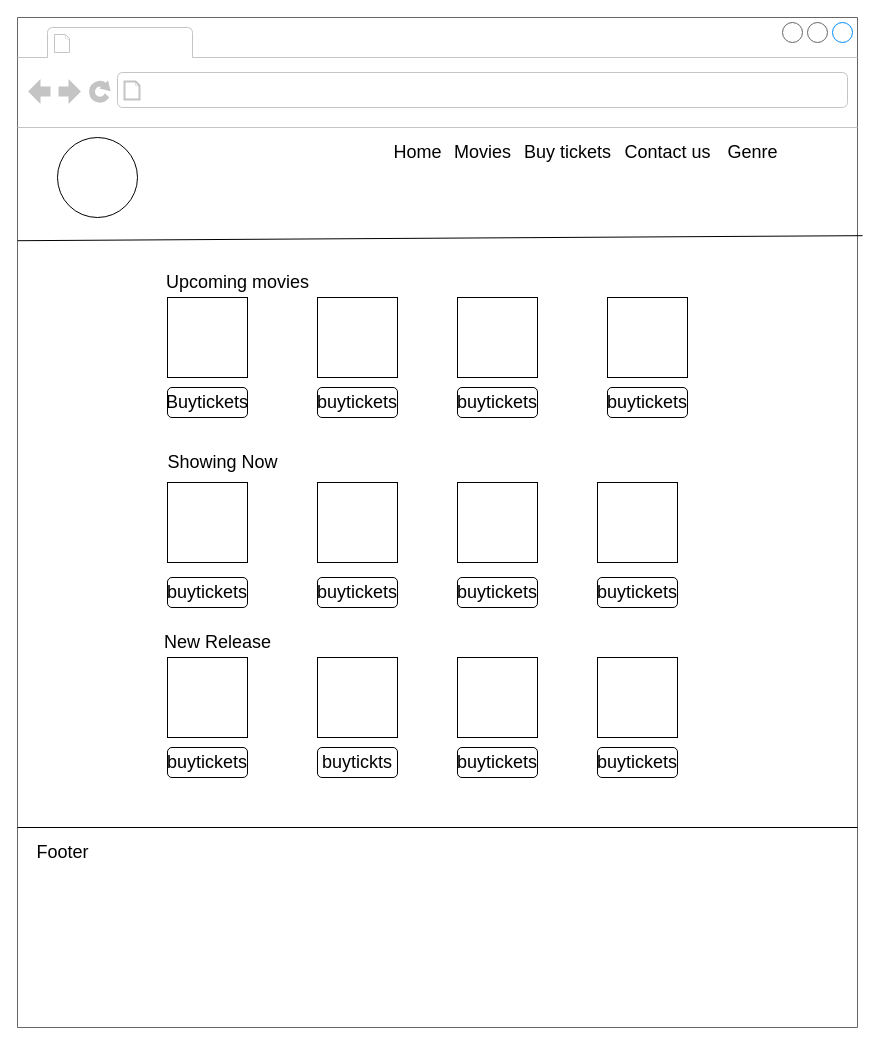
Some shapes in this 882 by 1045 pixel diagram are drawn without their labels. Each missing label, with the centre of its shape:
https://www.draw.io: (272,90)
Logo: (97,177)
Page 1: (132,42)
